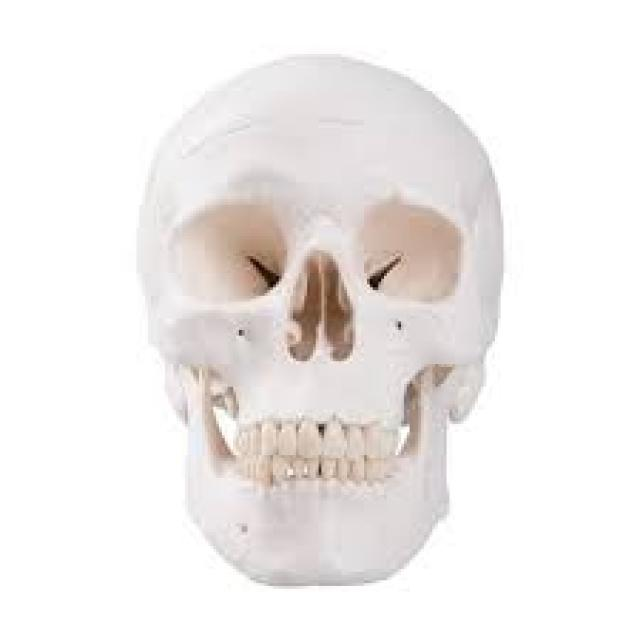skull: (129, 44, 516, 603)
